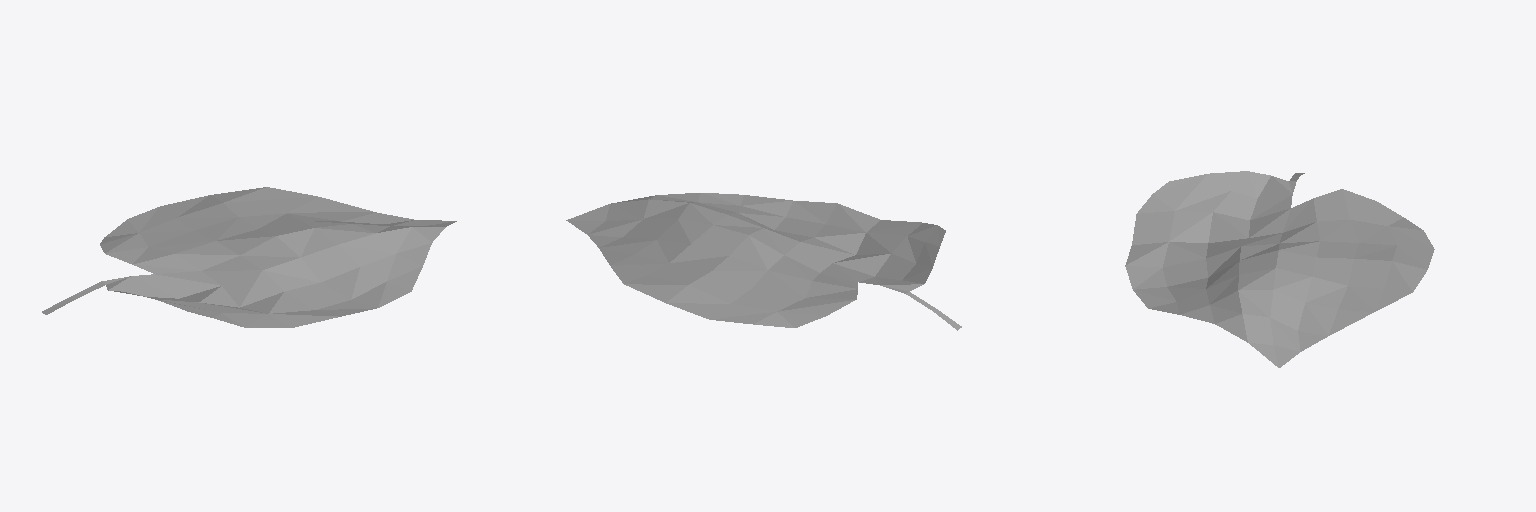
Rendered from SM_Leaf_21.obj.
The picture shows the model from 3 angles: view 1: azimuth 30°, elevation 25°; view 2: azimuth 150°, elevation 25°; view 3: azimuth 270°, elevation 25°; orthographic projection.
Visible parts, largest first — view 1: SM_Leaf_21_SM_Leaf_21_Leaf_21_Uvme.000; view 2: SM_Leaf_21_SM_Leaf_21_Leaf_21_Uvme.000; view 3: SM_Leaf_21_SM_Leaf_21_Leaf_21_Uvme.000.
Part boxes in pixels (bbox=[...]): SM_Leaf_21_SM_Leaf_21_Leaf_21_Uvme.000: bbox=[42, 187, 456, 327]; SM_Leaf_21_SM_Leaf_21_Leaf_21_Uvme.000: bbox=[566, 193, 961, 330]; SM_Leaf_21_SM_Leaf_21_Leaf_21_Uvme.000: bbox=[1125, 171, 1434, 367].
Size of the model in its own units: 0.1041 by 0.0079 by 0.069.